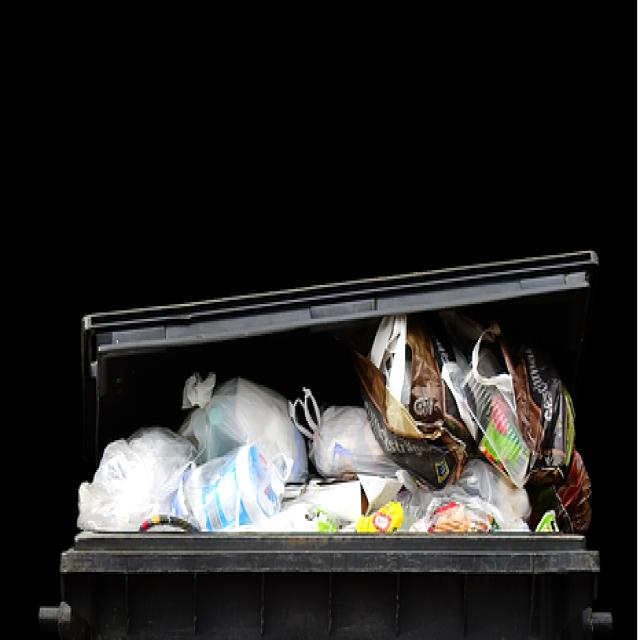Garbage: (73, 319, 593, 544)
Trash: (366, 327, 471, 490), (308, 398, 406, 480)
